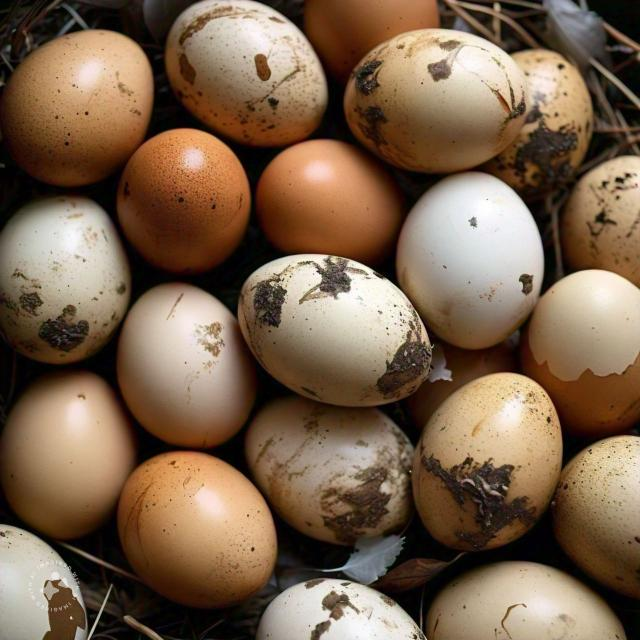Dirt Stained Egg: (245, 240, 422, 423), (232, 377, 414, 540), (410, 358, 548, 553), (343, 24, 531, 164), (155, 0, 336, 138), (0, 194, 136, 346)
